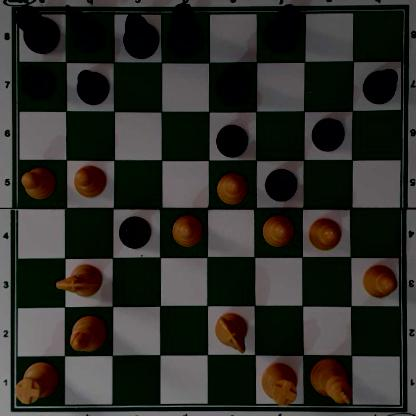black-bishop: (122, 9, 159, 58), (218, 63, 251, 106)
black-king: (166, 2, 205, 57)
black-knight: (68, 1, 105, 53)
black-pawn: (362, 67, 398, 104), (20, 64, 55, 99), (215, 121, 249, 156), (75, 67, 107, 104), (311, 116, 344, 151), (265, 166, 297, 201), (119, 214, 151, 248)
black-rook: (14, 1, 59, 53), (264, 4, 303, 54)
white-bishop: (69, 314, 108, 353)
white-king: (309, 357, 352, 406)
white-knight: (54, 264, 104, 297), (214, 311, 250, 353)
white-pawn: (360, 263, 397, 299), (308, 215, 342, 251), (213, 171, 249, 204), (21, 166, 57, 199), (73, 164, 107, 198), (261, 214, 294, 248), (171, 215, 203, 247)
white-rook: (14, 360, 60, 403), (261, 363, 298, 405)
